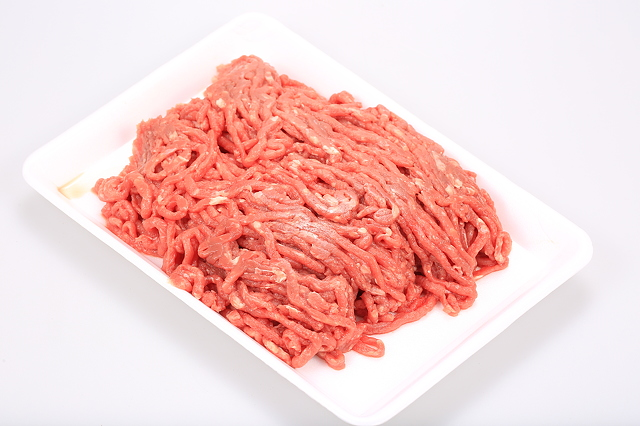ground_beef: (147, 47, 499, 353)
